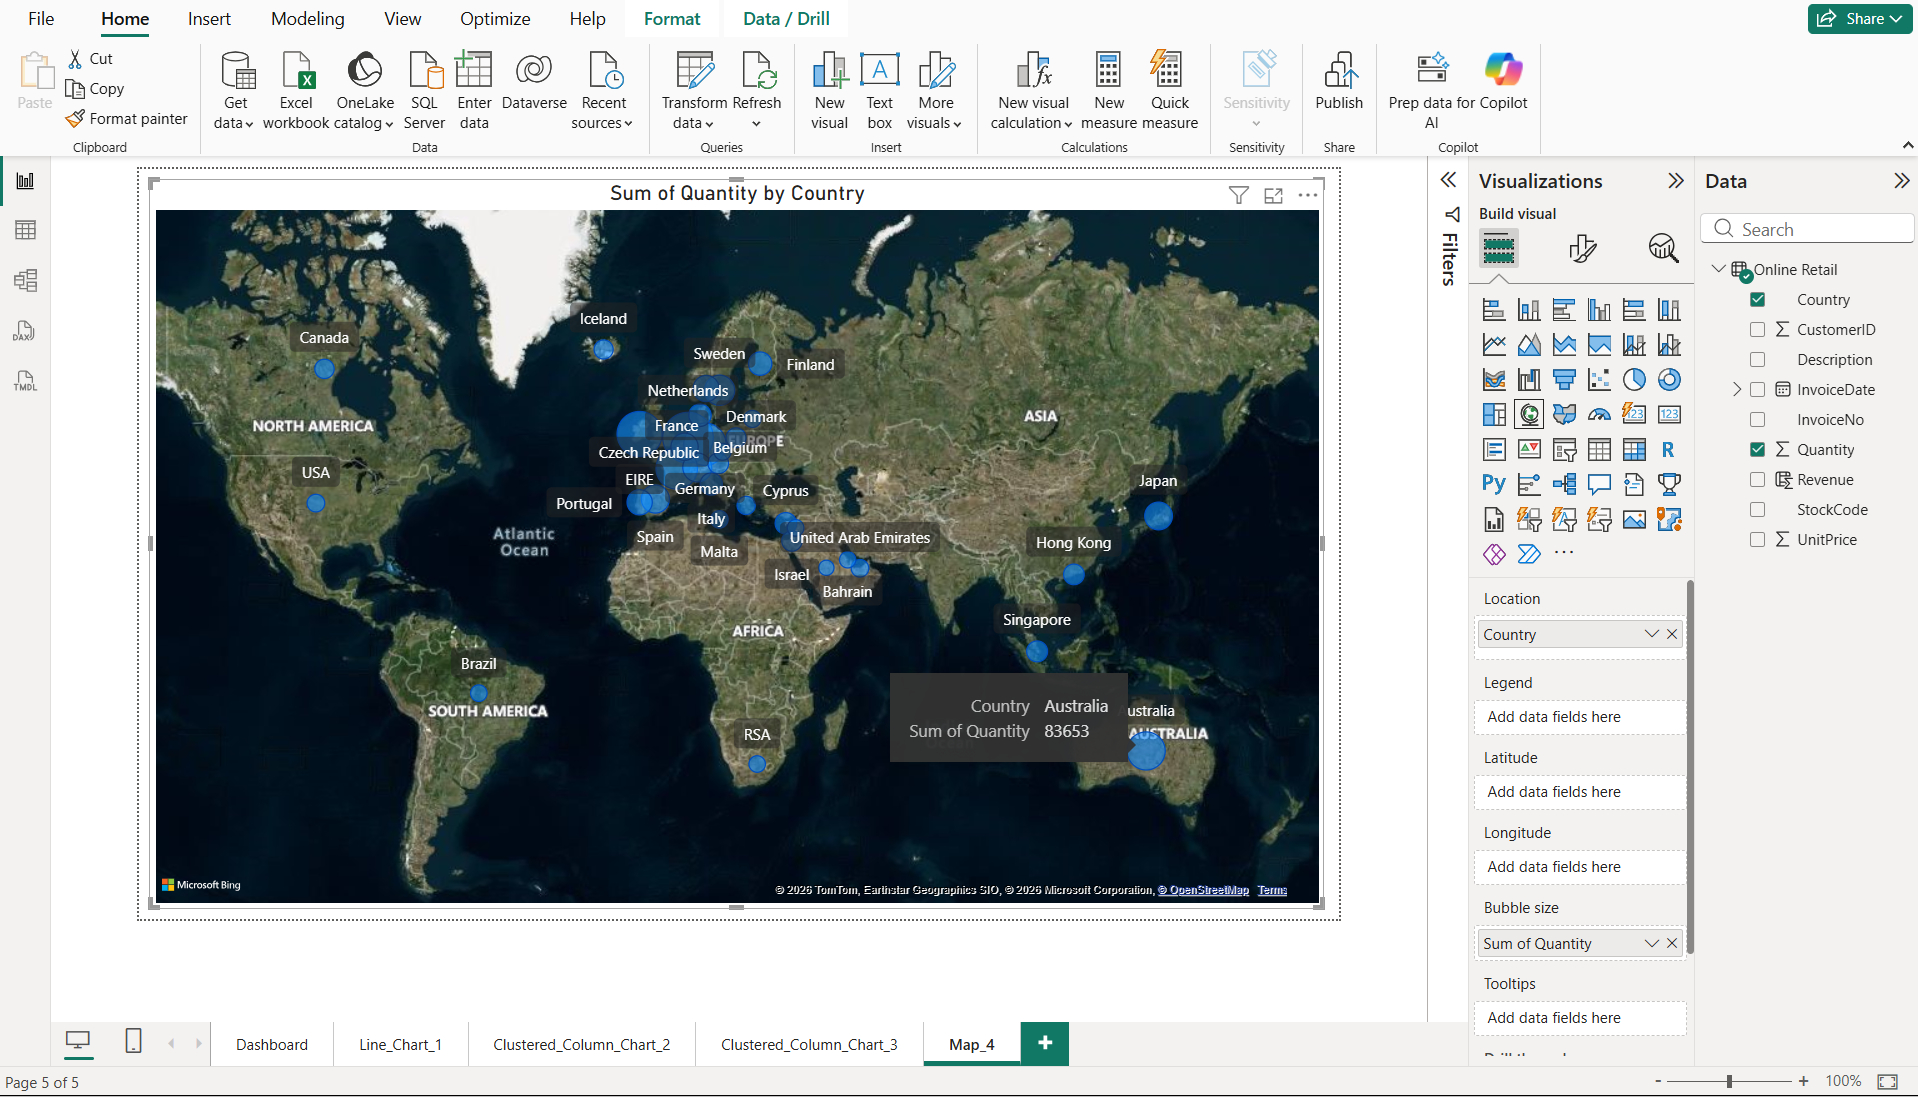

The dashboard page shown, as its layout file describes it:
{"tool":"powerbi","page":{"name":"Map_4","canvas":[960,600],"ordinal":4},"visuals":[{"type":"map","fields":{"Category":["Online Retail.Country"],"Size":["Sum(Online Retail.Quantity)"]},"box":[8,8,940,584],"z":0}]}

Visuals, with their boxes on the page's 960x600 design canvas (x1, y1, x2, y2). These are canvas units, not pixel positions in the 1918x1097 screenshot, which may show the page scaled, cropped or inside an application window:
map - Online Retail.Country x Sum(Online Retail.Quantity): 8:8:948:592
